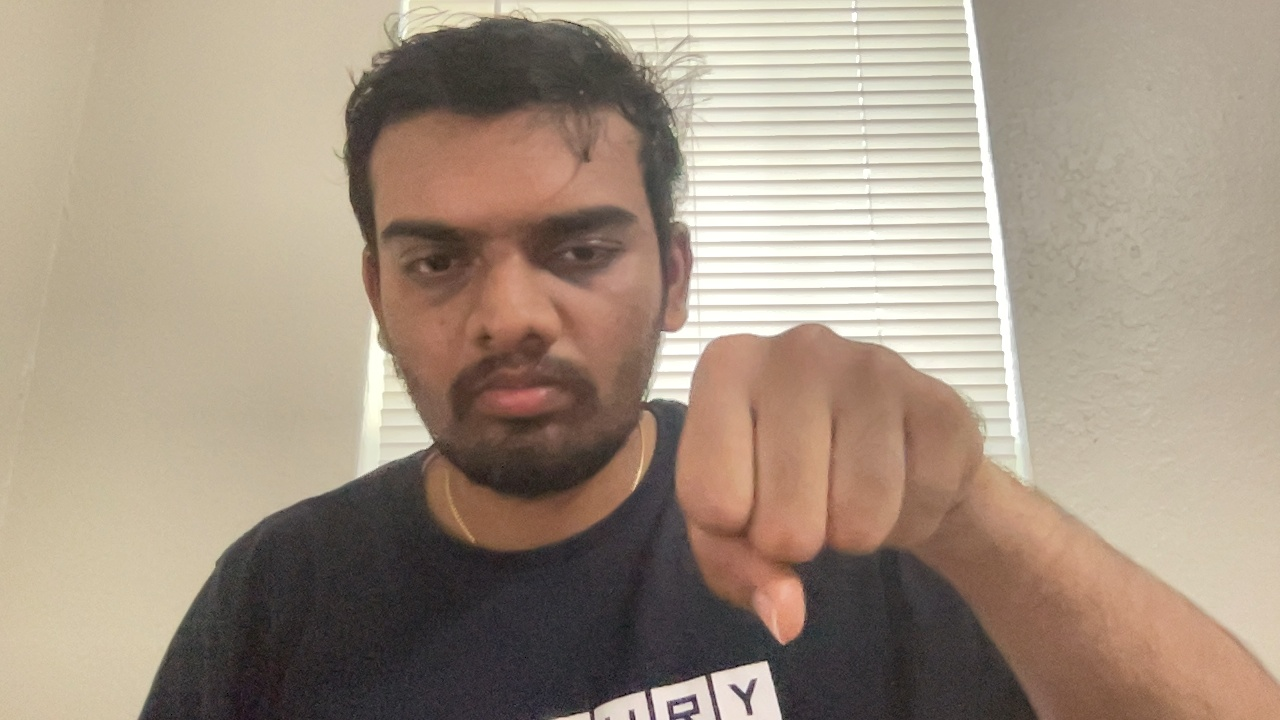yes: (668, 308, 980, 653)
